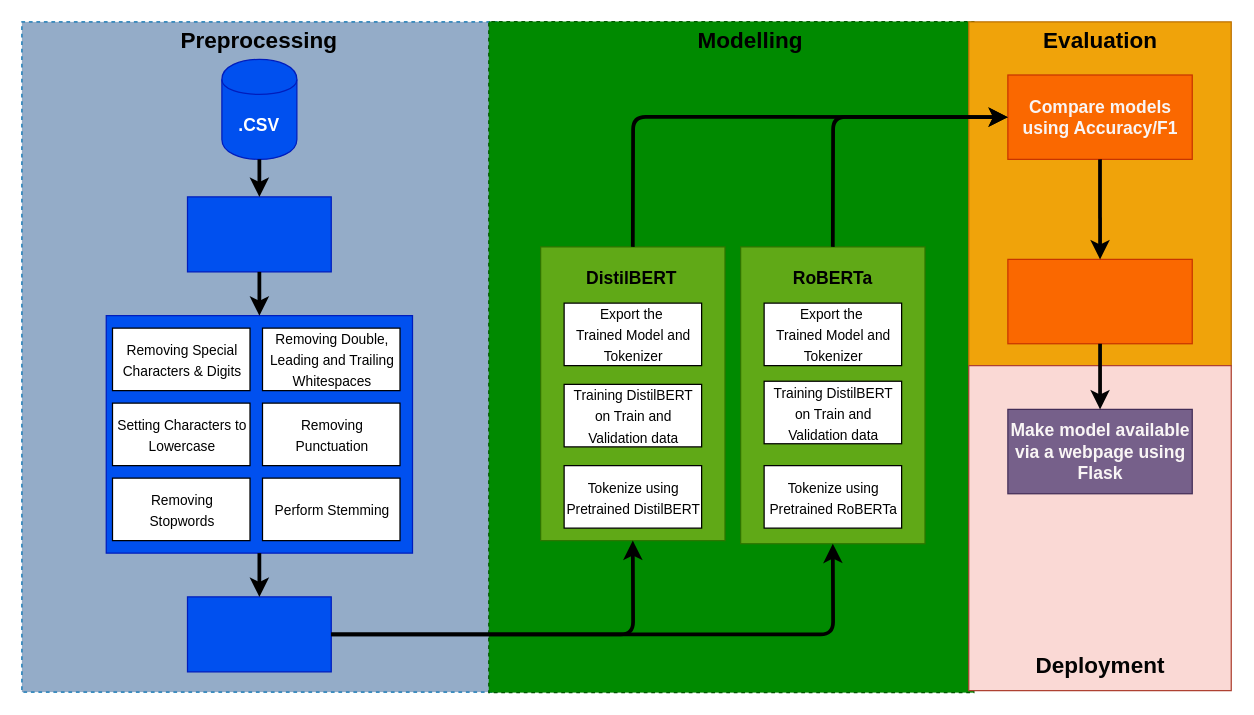
The diagram is 1254 pixels wide and 715 high, and some of its shapes have lost their labels. Here are the shapes that lost their labels. From the top down, the centre of each, then its label:
At point (258, 234): "EDA".
At point (1099, 301): "Choose best model: distilBERT".
At point (258, 634): "Stratified Train/Val/Test Split".
